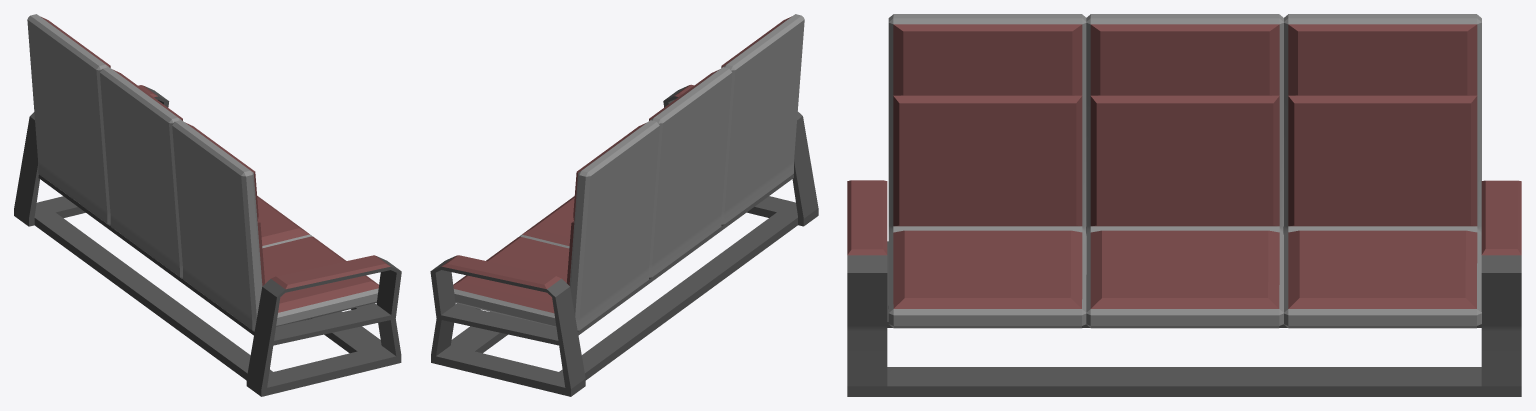
Rendered from Couch.fbx.
3 views of the same model, side by side, from view 1: azimuth 30°, elevation 25°; view 2: azimuth 150°, elevation 25°; view 3: azimuth 270°, elevation 25° (orthographic). The views are drawn at different scales.
Parts seen in each view (by area): view 1: frame, seat_left, seat_middle, seat_right; view 2: frame, seat_right, seat_middle, seat_left; view 3: seat_left, seat_right, seat_middle, frame.
Part boxes in pixels (<box>): frame: <box>14,85,401,396</box>; seat_left: <box>172,120,378,331</box>; seat_middle: <box>100,67,312,278</box>; seat_right: <box>27,14,110,225</box>; frame: <box>430,84,818,396</box>; seat_right: <box>453,120,659,331</box>; seat_middle: <box>519,67,732,278</box>; seat_left: <box>721,14,804,225</box>; seat_left: <box>888,14,1086,328</box>; seat_right: <box>1283,14,1481,328</box>; seat_middle: <box>1086,14,1283,328</box>; frame: <box>847,180,1521,396</box>.
Bounding box in the file's own units: 3.06 × 4.31 × 9.1.
